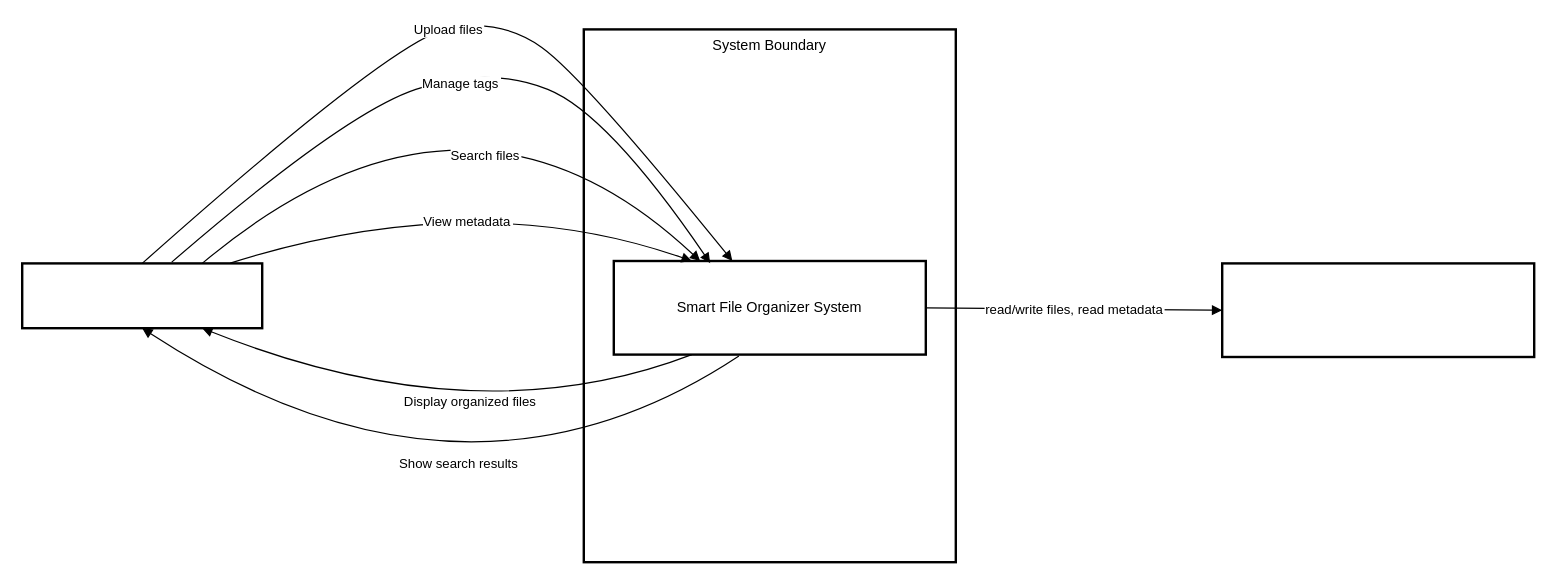
Image size: 1555x583. Some labels were removed from this diagram. The centre of each missing label's shape, as x and y in pixels:
"Operating System File System" goes at (1377,310).
"User" goes at (141,295).
